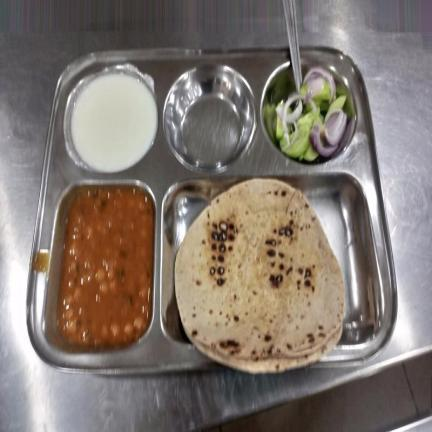Chhole: (58, 185, 155, 345)
Dahi: (70, 71, 158, 171)
Plate: (26, 45, 398, 372)
Roti: (174, 178, 345, 373)
Salad: (276, 66, 349, 159)
